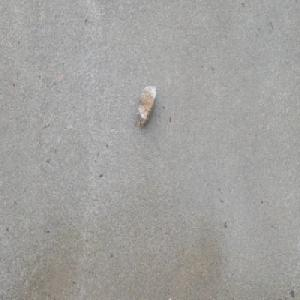Rock: (137, 83, 157, 129)
